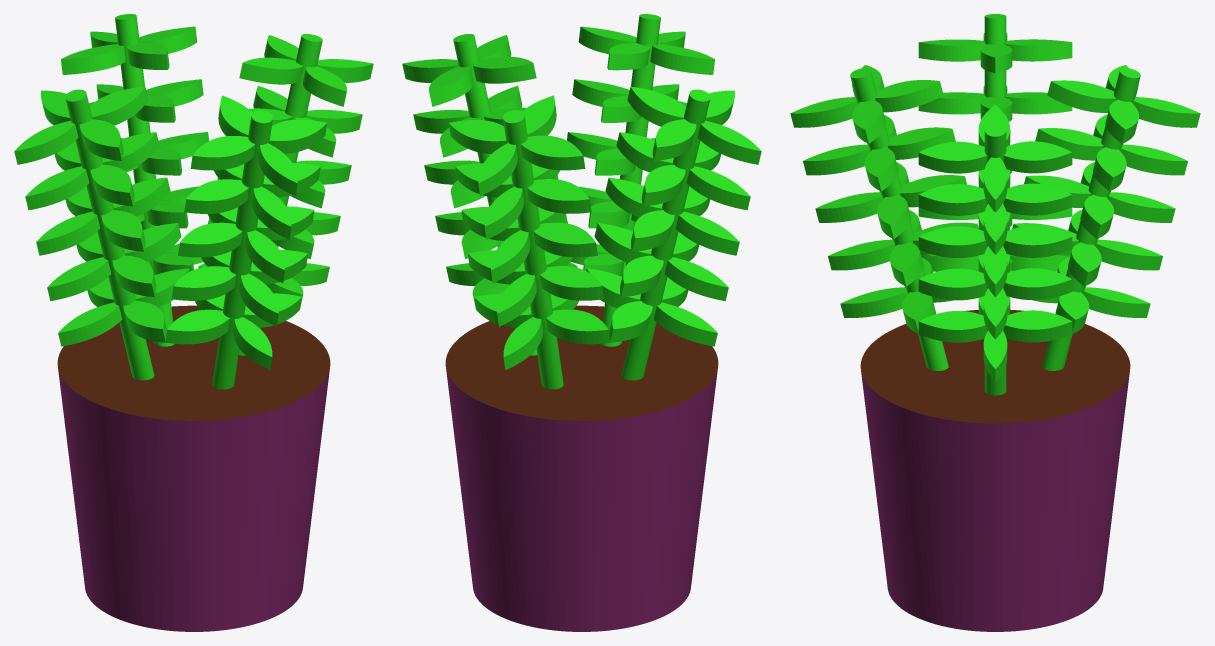
Rendered from resistant_plant.glb.
The picture shows the model from 3 angles, left to right: view 1: azimuth 30°, elevation 25°; view 2: azimuth 150°, elevation 25°; view 3: azimuth 270°, elevation 25°; orthographic projection.
Parts seen in each view (by area): view 1: ResistantPlant; view 2: ResistantPlant; view 3: ResistantPlant.
Part boxes in pixels (x1=…): ResistantPlant: x1=14, y1=14, x2=373, y2=631; ResistantPlant: x1=402, y1=14, x2=761, y2=631; ResistantPlant: x1=790, y1=14, x2=1200, y2=631.
Bounding box in the file's own units: 0.0863 × 0.1197 × 0.0863.
